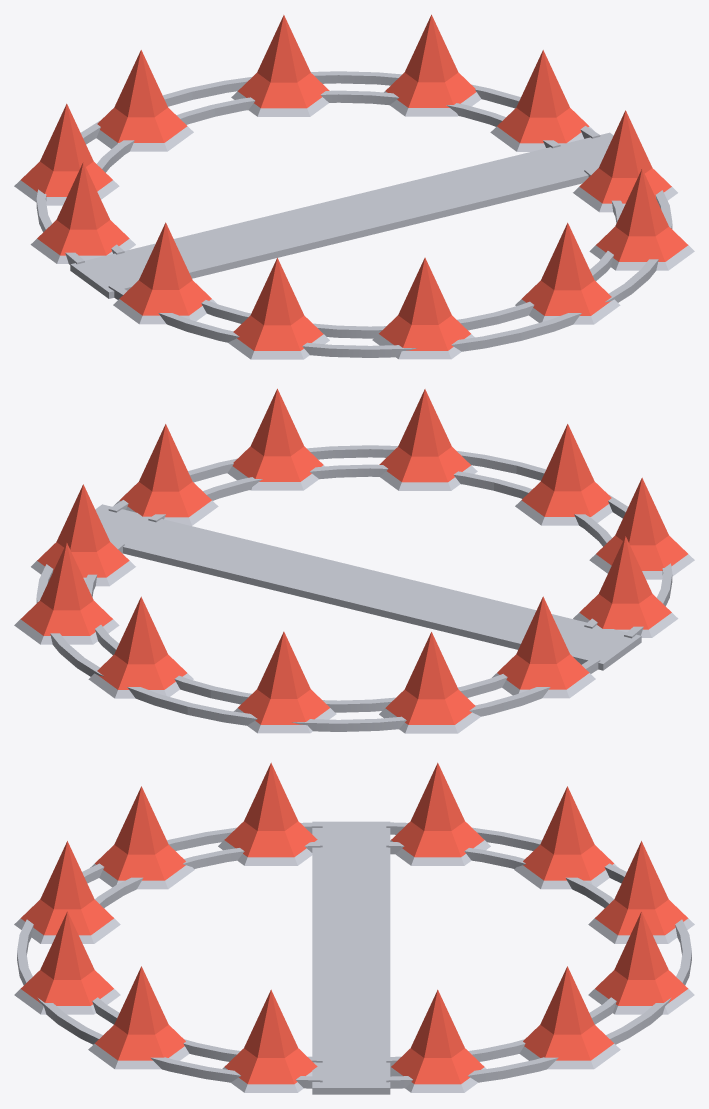
The model's file is spike_trap.fbx.
3 renders of one model, top to bottom at view 1: azimuth 30°, elevation 25°; view 2: azimuth 150°, elevation 25°; view 3: azimuth 270°, elevation 25°, orthographic.
Visible parts, largest first — view 1: hexagon_roof (×12), block, track_mineBasicCurveLarge% (×4); view 2: hexagon_roof (×12), block, track_mineBasicCurveLarge% (×4); view 3: hexagon_roof (×12), block, track_mineBasicCurveLarge% (×4).
Part boxes in pixels (x1,y1,x2,y2): hexagon_roof (×12): (14, 14, 694, 359); block: (70, 132, 613, 298); track_mineBasicCurveLarge% (×4): (36, 71, 672, 357); hexagon_roof (×12): (14, 388, 694, 733); block: (95, 504, 641, 670); track_mineBasicCurveLarge% (×4): (36, 445, 672, 731); hexagon_roof (×12): (14, 762, 694, 1092); block: (312, 821, 390, 1094); track_mineBasicCurveLarge% (×4): (17, 822, 691, 1088).
Bounding box in the file's own units: 34.22 × 5 × 36.77.
